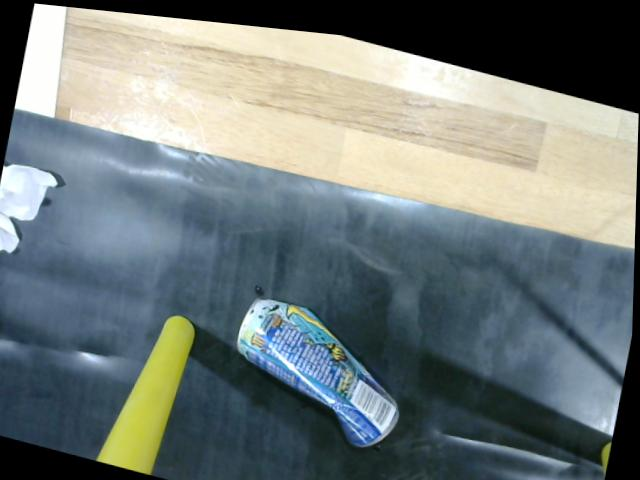can: (226, 286, 409, 449)
